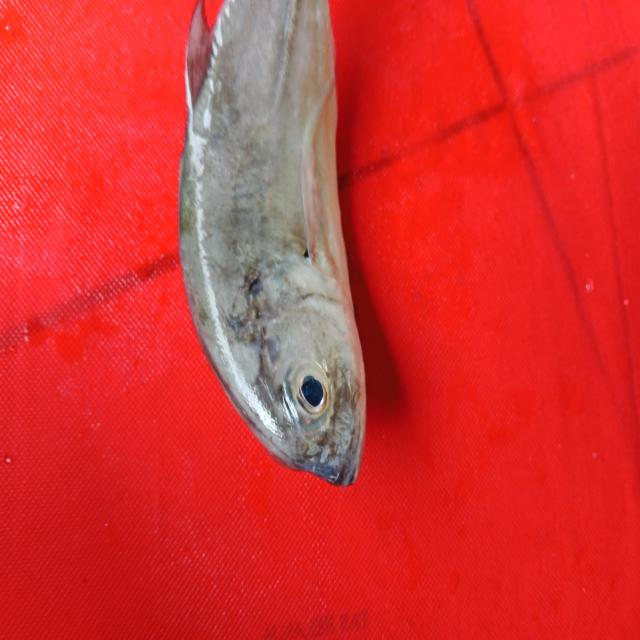ikan: (160, 5, 398, 494)
